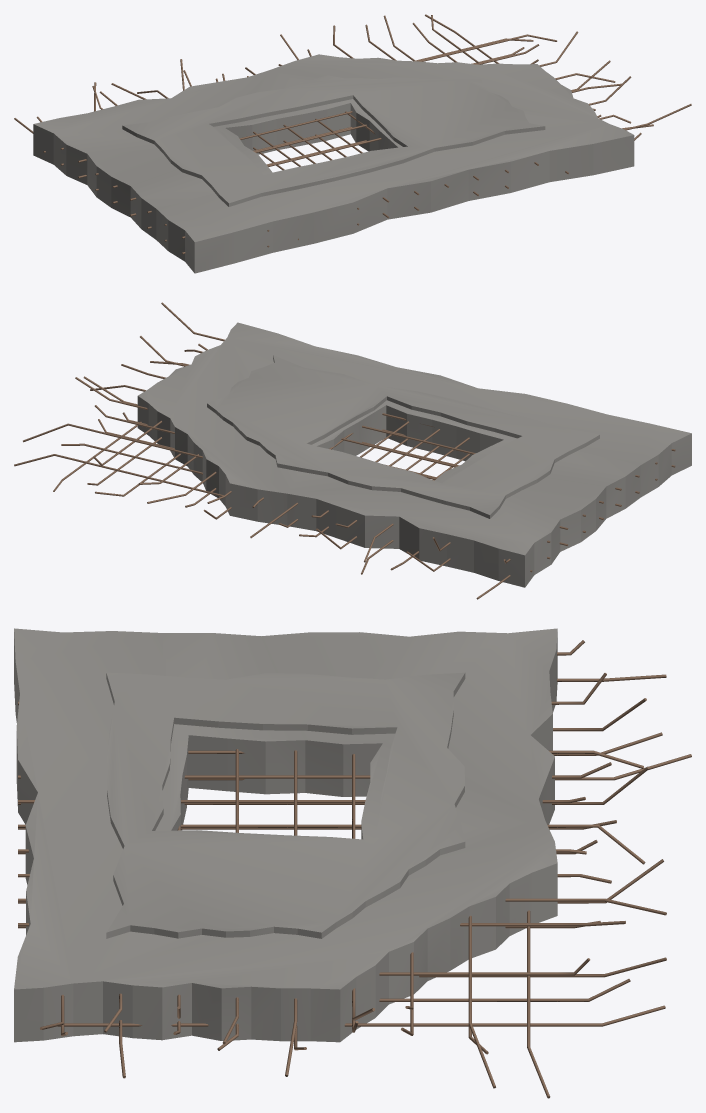
Rendered from concrete_wall_breach.glb.
The picture shows the model from 3 angles, top to bottom: view 1: azimuth 30°, elevation 25°; view 2: azimuth 150°, elevation 25°; view 3: azimuth 270°, elevation 25°; orthographic projection. The views are drawn at different scales.
Visible parts, largest first — view 1: concrete_wall_breach; view 2: concrete_wall_breach; view 3: concrete_wall_breach.
Part boxes in pixels (bbox=[...]): concrete_wall_breach: bbox=[14, 14, 691, 273]; concrete_wall_breach: bbox=[14, 302, 691, 599]; concrete_wall_breach: bbox=[14, 628, 691, 1098].
Bounding box in the file's own units: 5.06 × 0.4795 × 3.49.
